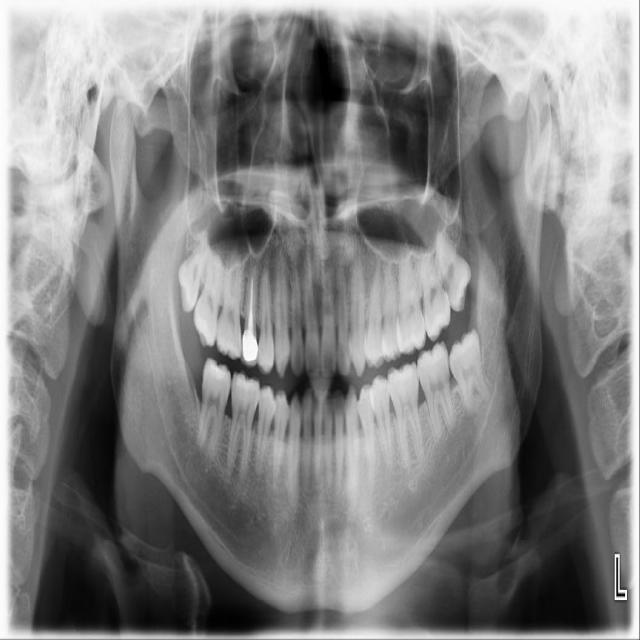Crown: (239, 326, 259, 367)
Root Canal Treatment: (249, 275, 252, 326)
